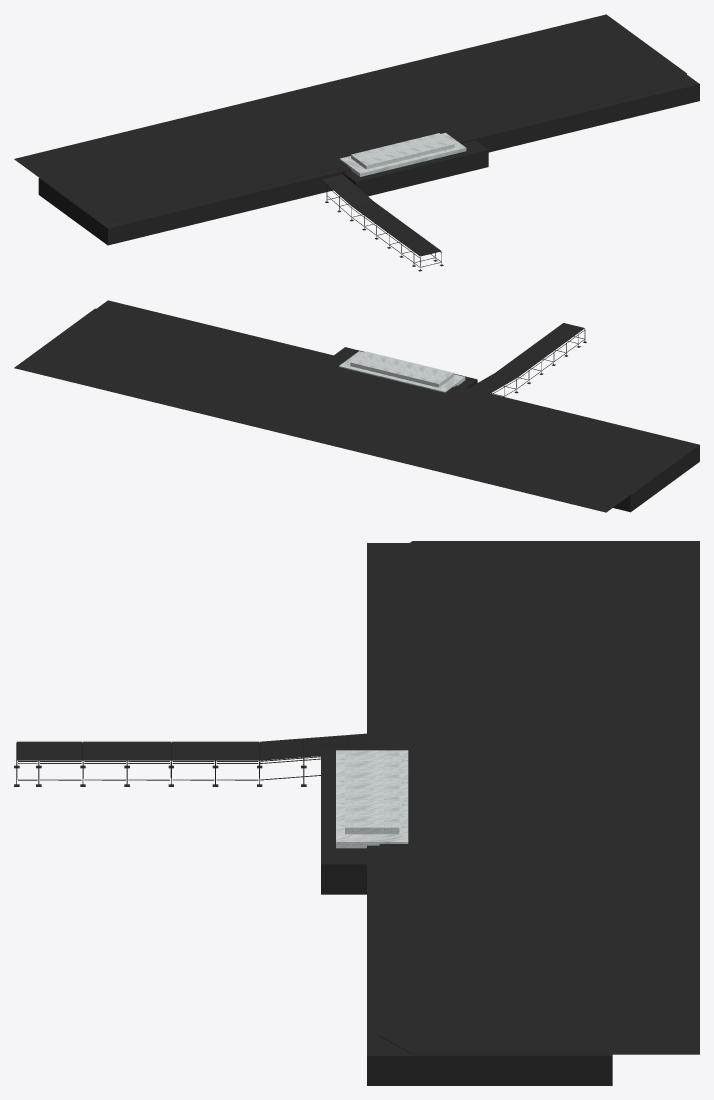
The model's file is ANYMA_Coachella_StageDec_v009_Stage_Platform.glb.
3 views of the same model, one above another, from view 1: azimuth 30°, elevation 25°; view 2: azimuth 150°, elevation 25°; view 3: azimuth 270°, elevation 25° (orthographic). The views are drawn at different scales.
Visible parts, largest first — view 1: Floor, Stage, Platform_fixed3, Catwalk, Platform_fixed2, Platform_fixed; view 2: Floor, Stage, Catwalk, Platform_fixed2, Platform_fixed; view 3: Floor, Stage, Catwalk, Platform_fixed2, Platform_fixed3, Platform_fixed.
Boxes of the visible parts, box(x1,y1,x2,y2) form: Floor: box(14, 14, 686, 219); Stage: box(38, 74, 699, 245); Platform_fixed3: box(343, 140, 488, 196); Catwalk: box(321, 174, 443, 271); Platform_fixed2: box(351, 133, 454, 169); Platform_fixed: box(339, 132, 466, 176); Floor: box(14, 307, 686, 512); Stage: box(97, 300, 699, 512); Catwalk: box(469, 323, 586, 396); Platform_fixed2: box(350, 351, 453, 387); Platform_fixed: box(339, 351, 465, 392); Floor: box(379, 541, 699, 1054); Stage: box(367, 543, 612, 1085); Catwalk: box(14, 733, 366, 786); Platform_fixed2: box(345, 751, 399, 834); Platform_fixed3: box(321, 749, 366, 894); Platform_fixed: box(336, 750, 408, 848).
Size of the model in its own units: 67.04 by 3.01 by 37.88.
Materials: 2 (1 with a texture image).
